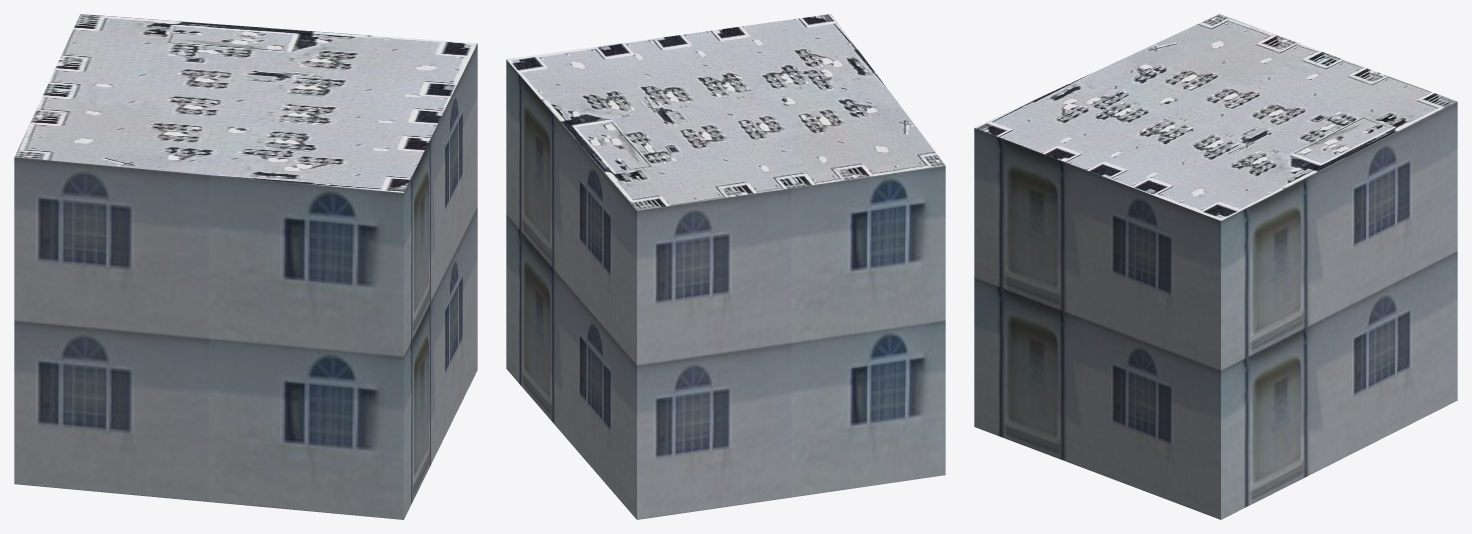
File: ResTex__2173.fbx
The picture shows the model from 3 angles, left to right: view 1: azimuth 30°, elevation 25°; view 2: azimuth 150°, elevation 25°; view 3: azimuth 270°, elevation 25°; orthographic projection. The views are drawn at different scales.
Parts seen in each view (by area): view 1: CityEngineMaterial_17_m, CityEngineMaterial_4_m; view 2: CityEngineMaterial_17_m, CityEngineMaterial_4_m; view 3: CityEngineMaterial_17_m, CityEngineMaterial_4_m.
Part boxes in pixels (box(x1,y1,x2,y2)): CityEngineMaterial_17_m: box(14, 43, 477, 519); CityEngineMaterial_4_m: box(14, 14, 477, 192); CityEngineMaterial_17_m: box(506, 60, 945, 519); CityEngineMaterial_4_m: box(506, 14, 945, 210); CityEngineMaterial_17_m: box(974, 101, 1457, 519); CityEngineMaterial_4_m: box(975, 14, 1457, 220).
Bounding box in the file's own units: 8.91 × 6 × 8.79.
2 materials, 2 textured.
